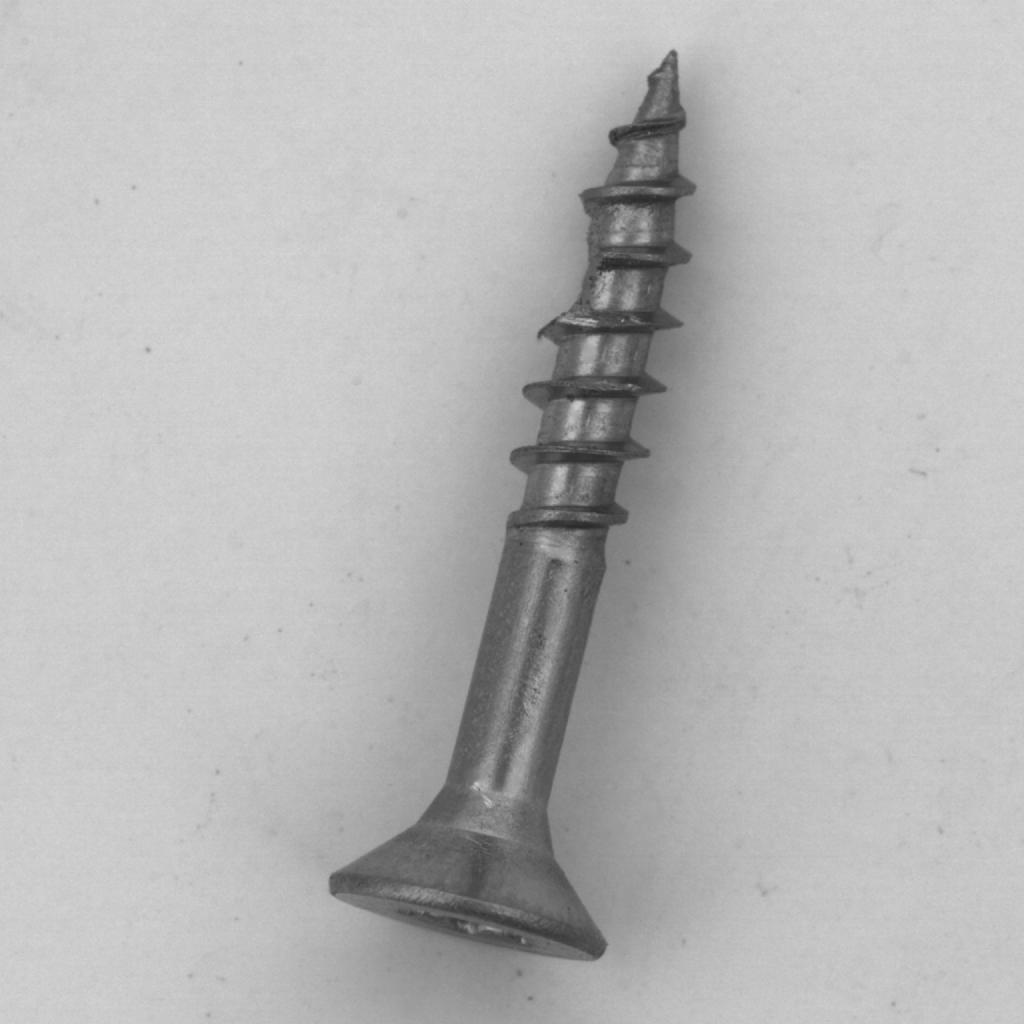thread_side: (283, 26, 715, 992)
